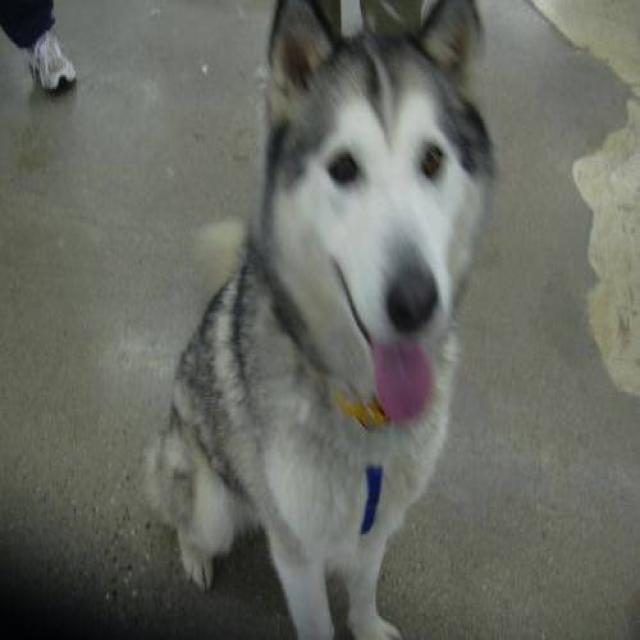Dog: (253, 0, 504, 436)
